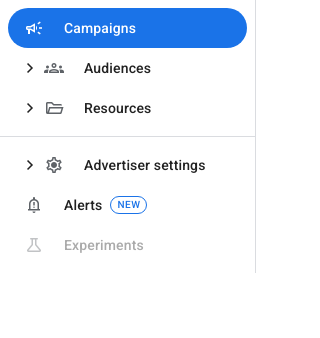
Test: DvNav › shows the NEW badge and two-line labels
Expected: the text "New" is shown, [110, 196, 148, 214]
Click the button "Advertiser settings" at (112, 165), box [18, 153, 206, 177]
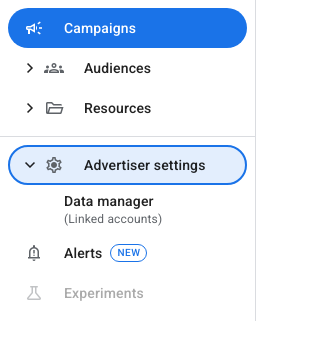
Expected: the text "(Linked accounts)" is shown, [64, 212, 162, 226]
